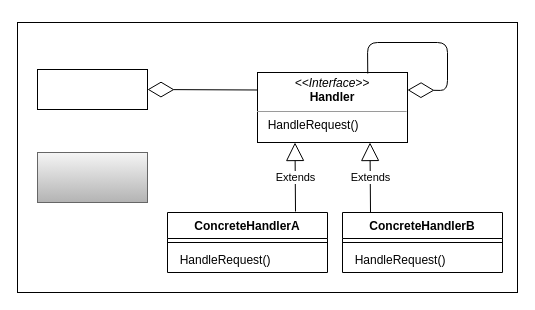
Some shapes in this 535 by 310 pixel diagram are drawn without their labels. The centre of each missing label's shape, as x and y in pixels:
Chain of Responsibility: the point at 92,177
Client: the point at 92,89
